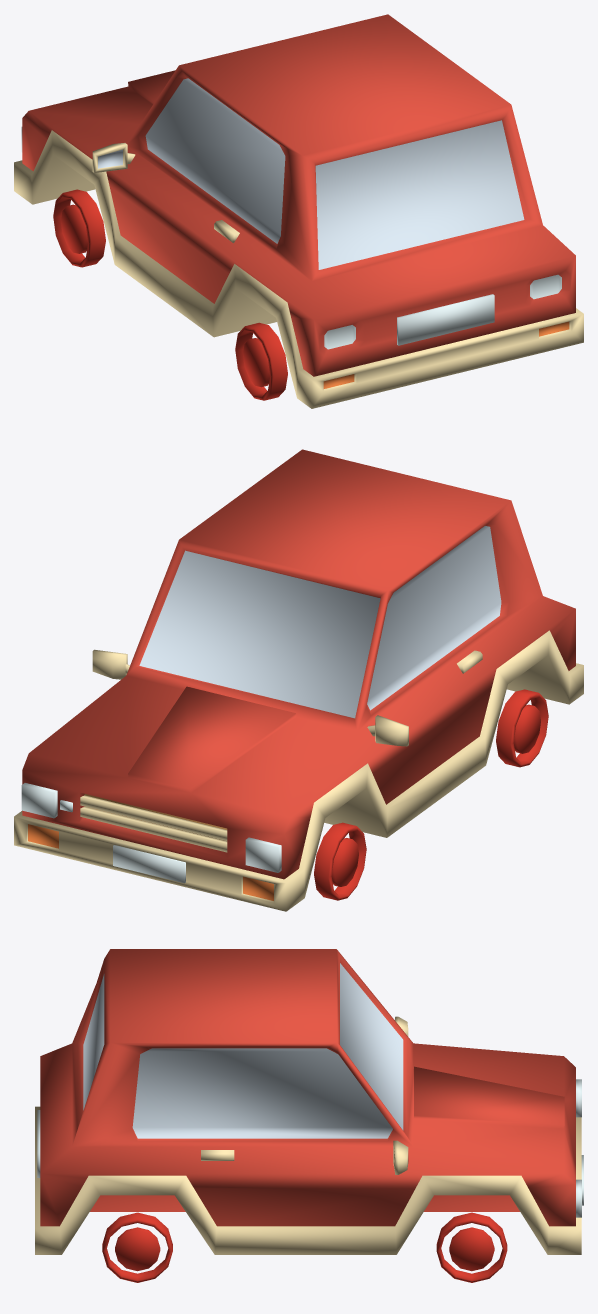
The model's file is Car_07.fbx.
The picture shows the model from 3 angles, top to bottom: view 1: azimuth 30°, elevation 25°; view 2: azimuth 150°, elevation 25°; view 3: azimuth 270°, elevation 25°; orthographic projection. The views are drawn at different scales.
Visible parts, largest first — view 1: CarB_T.002; view 2: CarB_T.002; view 3: CarB_T.002.
Boxes of the visible parts, left/top/right/bottom form: CarB_T.002: left=14, top=14, right=583, bottom=408; CarB_T.002: left=14, top=449, right=583, bottom=911; CarB_T.002: left=35, top=949, right=583, bottom=1282.
Bounding box in the file's own units: 84.05 × 67.53 × 144.
Materials: 1 (1 with a texture image).
